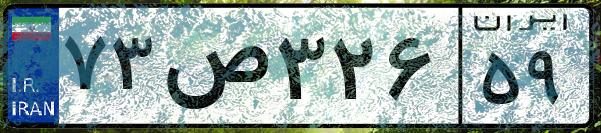2: (330, 28, 385, 110)
3: (270, 28, 330, 110), (110, 28, 158, 98)
5: (475, 38, 525, 113)
6: (385, 28, 445, 110)
7: (57, 26, 110, 100)
9: (525, 38, 570, 115)
ص: (158, 20, 270, 120)
